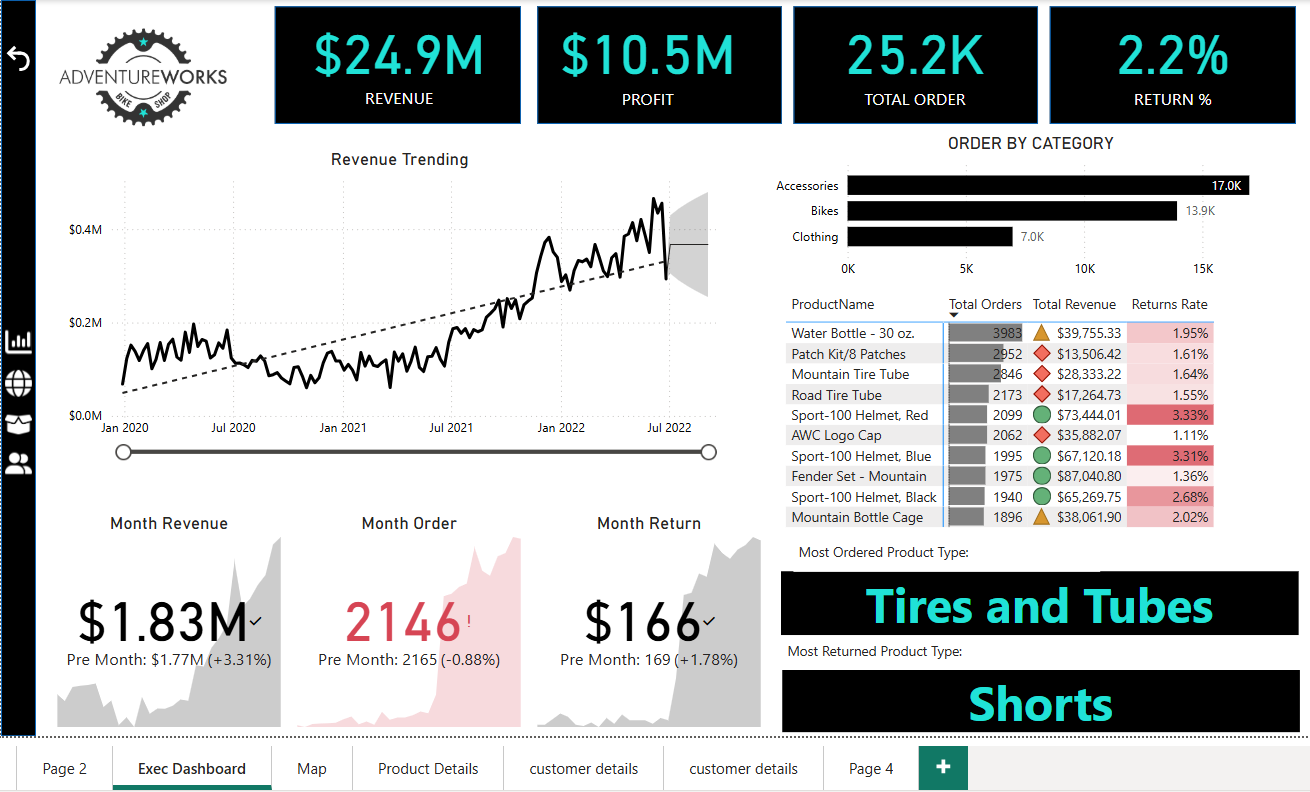

The page's visual inventory and layout, read from the dashboard file:
{"tool":"powerbi","page":{"name":"Exec Dashboard","canvas":[1280,720],"ordinal":2},"visuals":[{"type":"shape","box":[1025.8,6.1,240.9,115.2],"z":0},{"type":"shape","box":[268.2,6.1,240.9,115.2],"z":1000},{"type":"shape","box":[524.2,6.1,239.4,115.2],"z":2000},{"type":"shape","box":[775.8,6.1,239.4,115.2],"z":3000},{"type":"card","fields":{"Values":["Measure.Total Revenue"]},"box":[283.3,0,212.1,115.2],"z":4000},{"type":"card","fields":{"Values":["Measure.Returns Rate"]},"box":[1040.9,6.1,212.1,103],"z":5000},{"type":"card","fields":{"Values":["Measure.Total Orders"]},"box":[793.9,6.1,201.5,103],"z":6000},{"type":"card","fields":{"Values":["Measure.Total Profit"]},"box":[524.2,6.1,216.7,103],"z":7000},{"type":"lineChart","title":"Revenue Trending","fields":{"Category":["Calendar Lookup.Start of Week"],"Y":["Measure.Total Revenue"]},"box":[60.6,145.5,657.6,307.6],"z":8000},{"type":"image","box":[34.8,6.1,210.6,139.4],"z":9000},{"type":"shape","box":[0,0,34.2,720.2],"z":10000},{"type":"clusteredBarChart","title":"ORDER BY CATEGORY","fields":{"Category":["Product Categories Lookup.CategoryName"],"Y":["Measure.Total Orders"]},"box":[748.4,129.6,518.5,151.6],"z":11000},{"type":"pivotTable","fields":{"Rows":["Product Lookup.ProductName"],"Values":["Measure.Total Orders","Measure.Total Revenue","Measure.Returns Rate"]},"box":[763.6,281.8,504.5,243.9],"z":12000},{"type":"kpi","title":"Month Revenue","fields":{"Indicator":["Measure.Total Revenue"],"TrendLine":["Calendar Lookup.Start of Month"],"Goal":["Measure.Prev Month Revenue"]},"box":[50,501.5,228.8,215.2],"z":13000},{"type":"kpi","title":"Month Order","fields":{"TrendLine":["Calendar Lookup.Start of Month"],"Indicator":["Measure.Total Orders"],"Goal":["Measure.Prev Month Orders"]},"box":[284.8,501.5,228.8,215.2],"z":14000},{"type":"kpi","title":"Month Return","fields":{"TrendLine":["Calendar Lookup.Start of Month"],"Indicator":["Measure.Total Returns"],"Goal":["Measure.Prev Month Returns"]},"box":[519.7,501.5,228.8,215.2],"z":15000},{"type":"card","fields":{"Values":["Min(Product Subcategories Lookup.SubcategoryName)"]},"box":[763.6,559.1,506.1,62.1],"z":16000},{"type":"card","fields":{"Values":["Min(Product Subcategories Lookup.SubcategoryName)"]},"box":[763.7,655.6,506.3,61.2],"z":17000},{"type":"textbox","box":[775.8,525.8,300,33.3],"z":18000},{"type":"textbox","box":[763.7,622.9,300.1,32.7],"z":19000},{"type":"actionButton","box":[0,36.7,34.2,40.4],"z":20000},{"type":"actionButton","box":[0,314.3,34.2,40.4],"z":21000},{"type":"actionButton","box":[0,395,34.2,40.4],"z":22000},{"type":"actionButton","box":[0,354.6,34.2,40.4],"z":23000},{"type":"actionButton","box":[0,432.9,34.2,40.4],"z":24000}]}

Visuals, with their boxes on the page's 1280x720 design canvas (x1, y1, x2, y2). These are canvas units, not pixel positions in the 1310x792 screenshot, which may show the page scaled, cropped or inside an application window:
shape: pyautogui.locateOnScreen(1026, 6, 1267, 121)
shape: pyautogui.locateOnScreen(268, 6, 509, 121)
shape: pyautogui.locateOnScreen(524, 6, 764, 121)
shape: pyautogui.locateOnScreen(776, 6, 1015, 121)
card - Measure.Total Revenue: pyautogui.locateOnScreen(283, 0, 495, 115)
card - Measure.Returns Rate: pyautogui.locateOnScreen(1041, 6, 1253, 109)
card - Measure.Total Orders: pyautogui.locateOnScreen(794, 6, 995, 109)
card - Measure.Total Profit: pyautogui.locateOnScreen(524, 6, 741, 109)
"Revenue Trending" lineChart: pyautogui.locateOnScreen(61, 146, 718, 453)
image: pyautogui.locateOnScreen(35, 6, 245, 146)
shape: pyautogui.locateOnScreen(0, 0, 34, 720)
"ORDER BY CATEGORY" clusteredBarChart: pyautogui.locateOnScreen(748, 130, 1267, 281)
pivotTable - Product Lookup.ProductName x Measure.Total Orders: pyautogui.locateOnScreen(764, 282, 1268, 526)
"Month Revenue" kpi: pyautogui.locateOnScreen(50, 502, 279, 717)
"Month Order" kpi: pyautogui.locateOnScreen(285, 502, 514, 717)
"Month Return" kpi: pyautogui.locateOnScreen(520, 502, 748, 717)
card - Min(Product Subcategories Lookup.SubcategoryName): pyautogui.locateOnScreen(764, 559, 1270, 621)
card - Min(Product Subcategories Lookup.SubcategoryName): pyautogui.locateOnScreen(764, 656, 1270, 717)
textbox: pyautogui.locateOnScreen(776, 526, 1076, 559)
textbox: pyautogui.locateOnScreen(764, 623, 1064, 656)
actionButton: pyautogui.locateOnScreen(0, 37, 34, 77)
actionButton: pyautogui.locateOnScreen(0, 314, 34, 355)
actionButton: pyautogui.locateOnScreen(0, 395, 34, 435)
actionButton: pyautogui.locateOnScreen(0, 355, 34, 395)
actionButton: pyautogui.locateOnScreen(0, 433, 34, 473)
